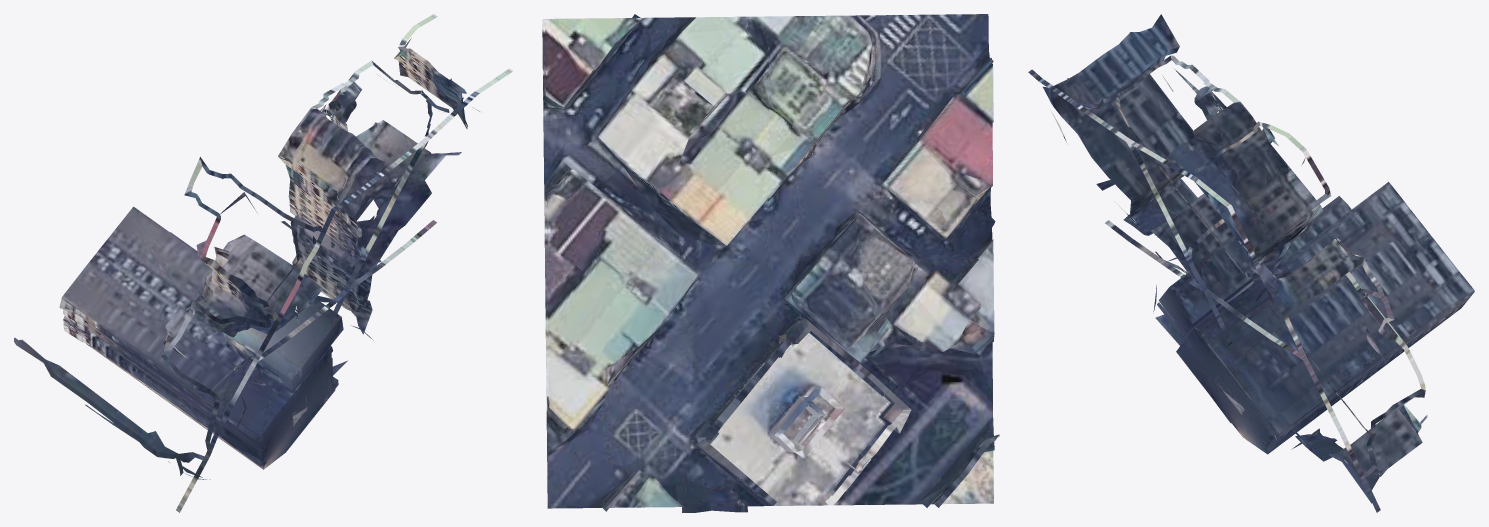
3 views of the same model, side by side, from view 1: azimuth 30°, elevation 25°; view 2: azimuth 150°, elevation 25°; view 3: azimuth 270°, elevation 25° (orthographic). The views are drawn at different scales.
Bounding box in the file's own units: 94.29 × 78.5 × 81.48.
Materials: 2 (2 with a texture image).
